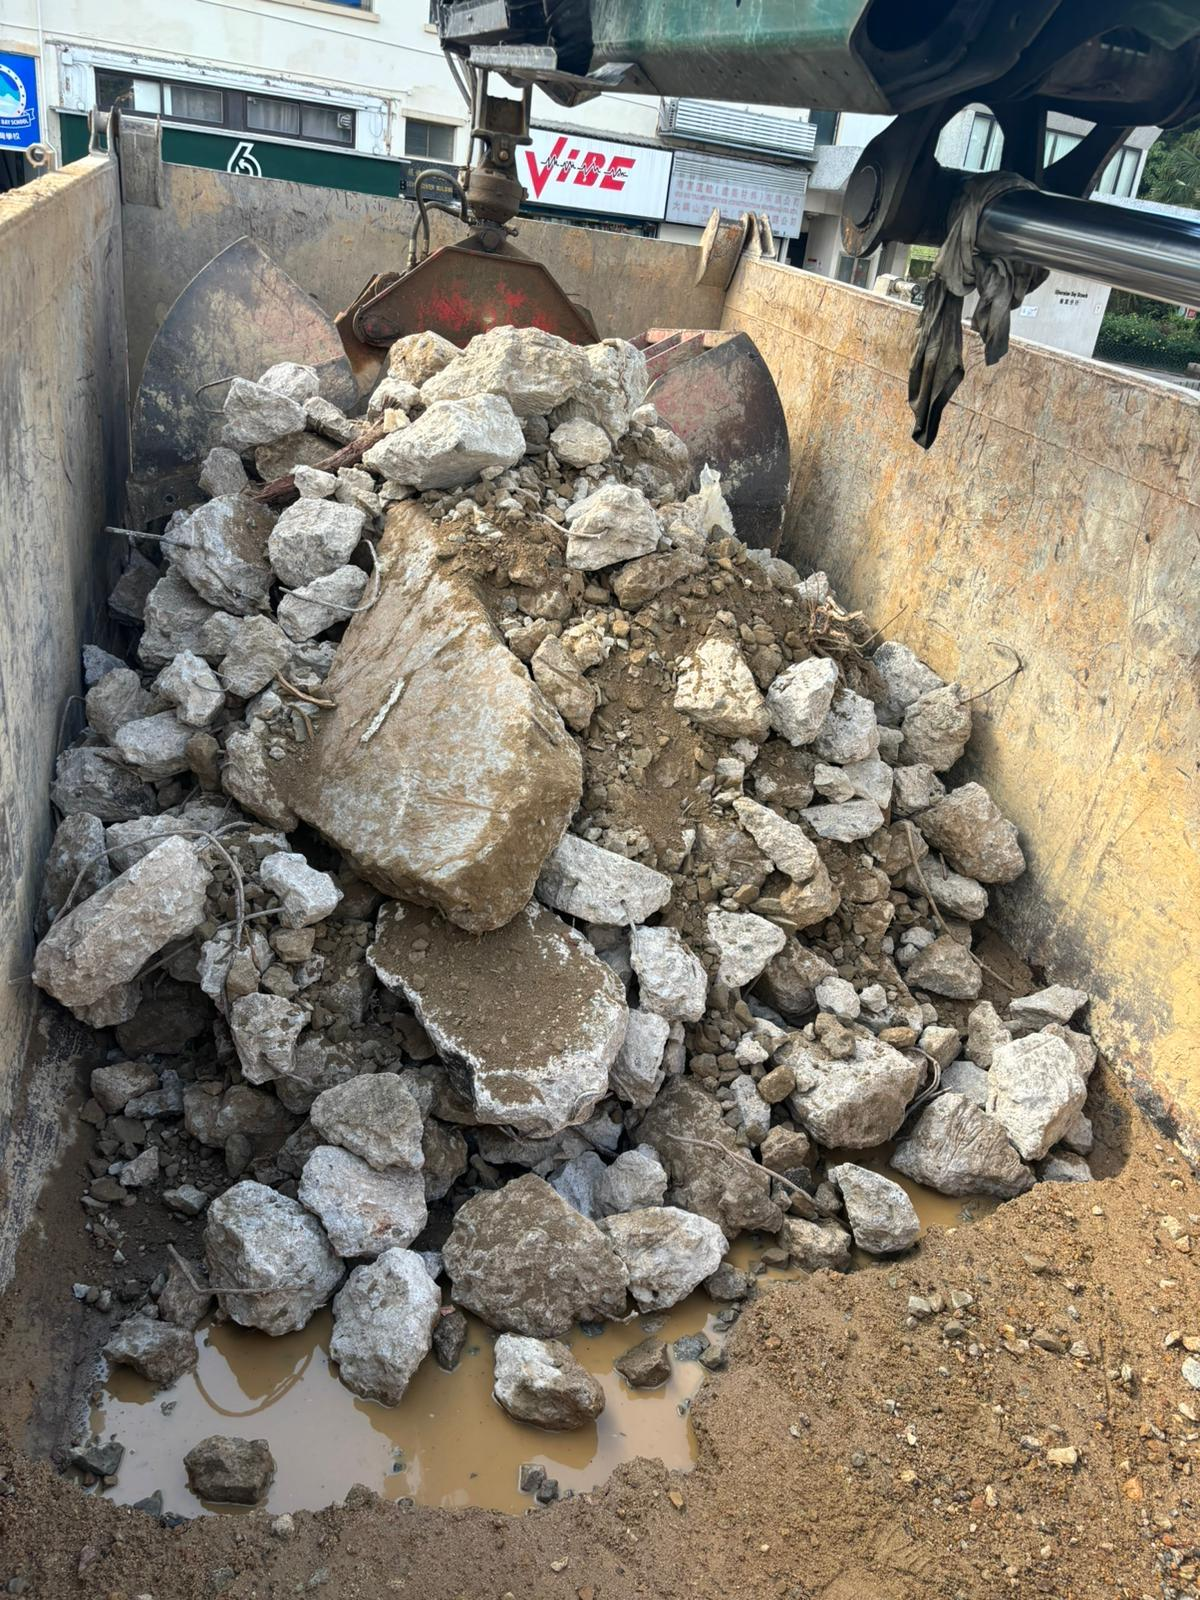dry: (45, 390, 1200, 1322)
